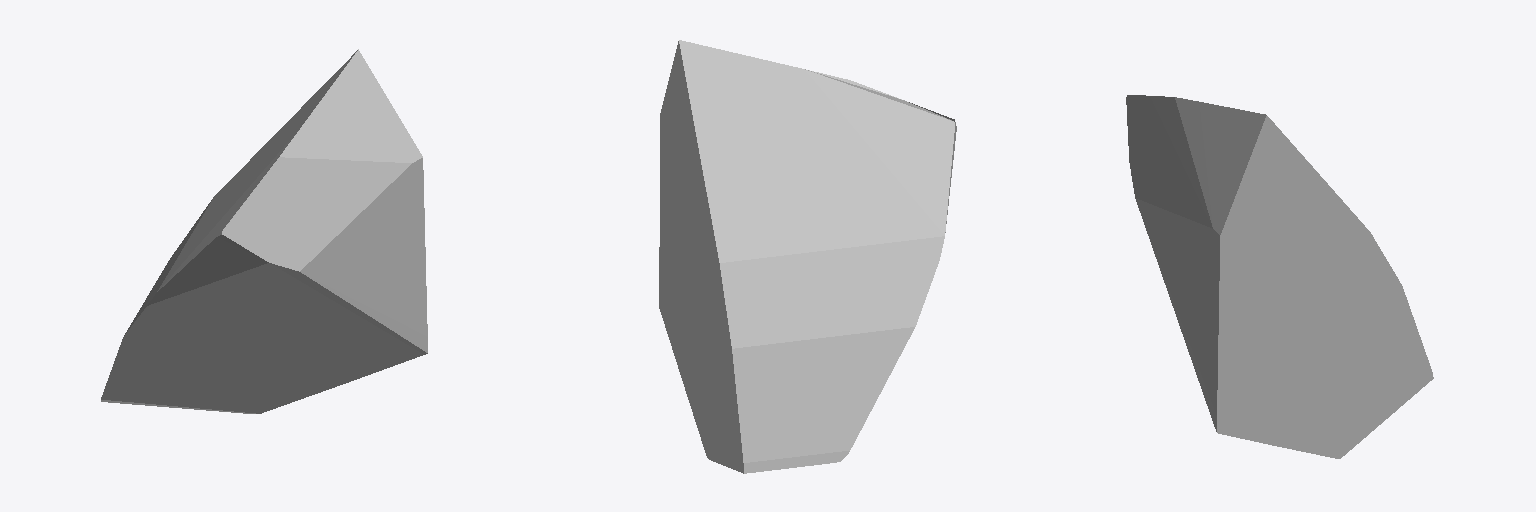
The model's file is li-fang-ti-.001_cell.089.obj.
3 renders of one model, left to right at view 1: azimuth 30°, elevation 25°; view 2: azimuth 150°, elevation 25°; view 3: azimuth 270°, elevation 25°, orthographic.
Parts seen in each view (by area): view 1: 立方体.001_cell.089; view 2: 立方体.001_cell.089; view 3: 立方体.001_cell.089.
Boxes of the visible parts, x1=… form: 立方体.001_cell.089: x1=101, y1=49, x2=427, y2=413; 立方体.001_cell.089: x1=659, y1=40, x2=956, y2=473; 立方体.001_cell.089: x1=1126, y1=95, x2=1433, y2=458.
Size of the model in its own units: 0.4838 by 0.6187 by 0.459.